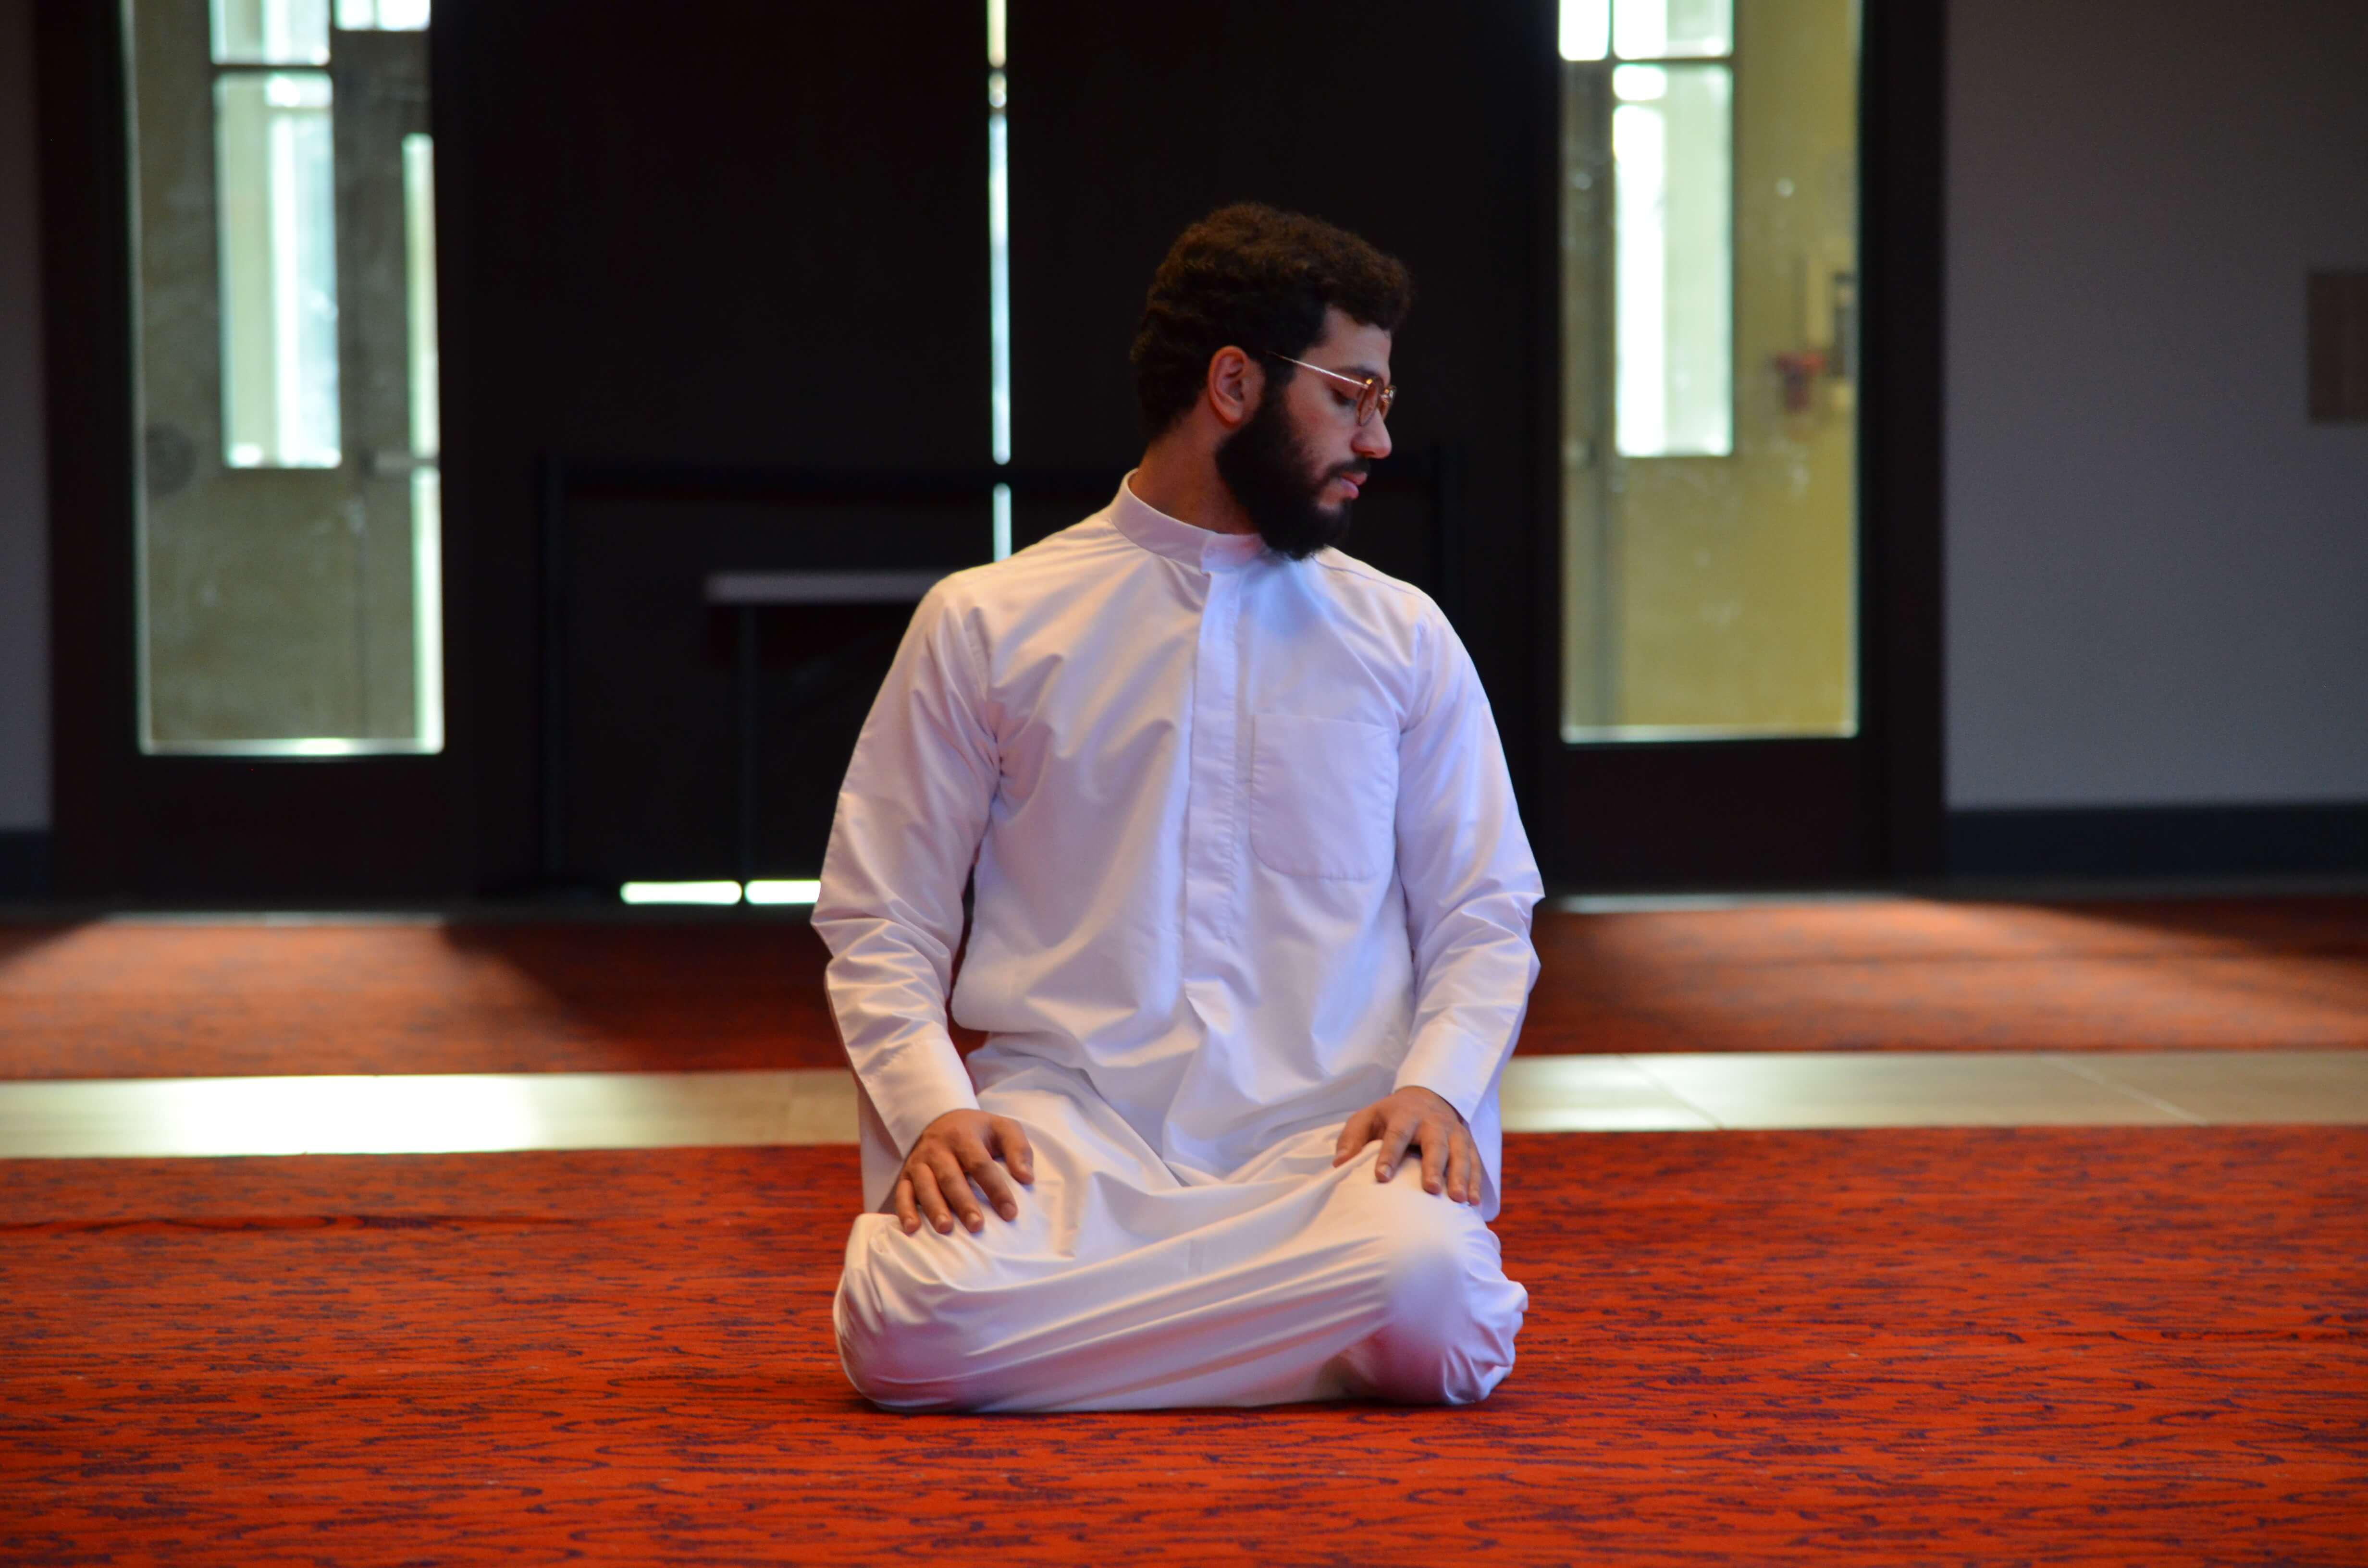julus: (805, 199, 1547, 1410)
